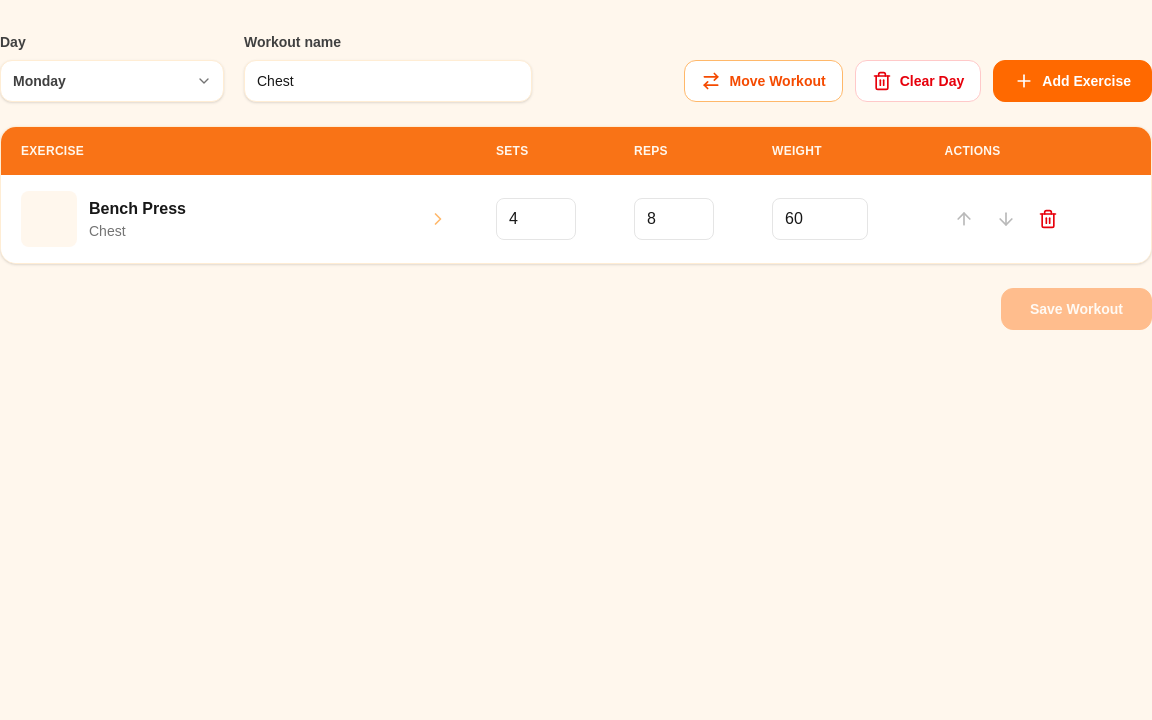
it: WorkoutBuilder persisted actions › opens persisted exercise details without relying on the saved library
This screenshot has width=1152, height=720.
Step 1. Click the button "Bench Press Chest" → {"x": 49, "y": 219}, box [13,183,456,255]
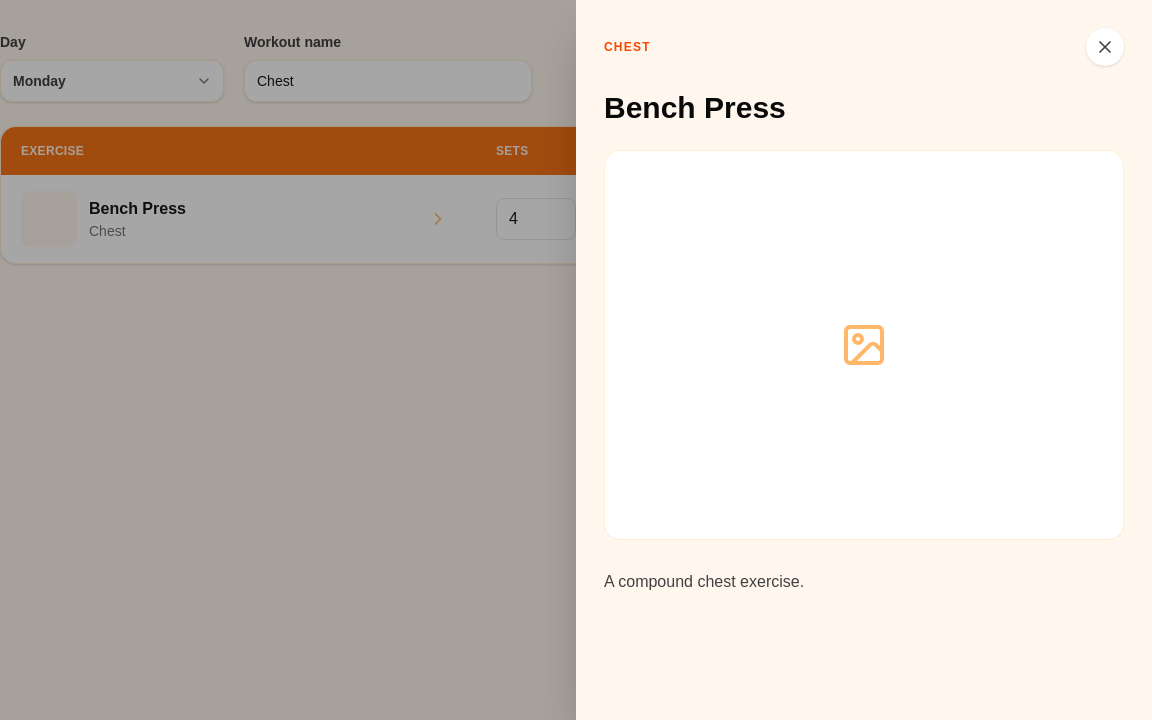
Now the dialog "Bench Press" is shown
Now the text "A compound chest exercise." is shown, box [604,573,804,590]
